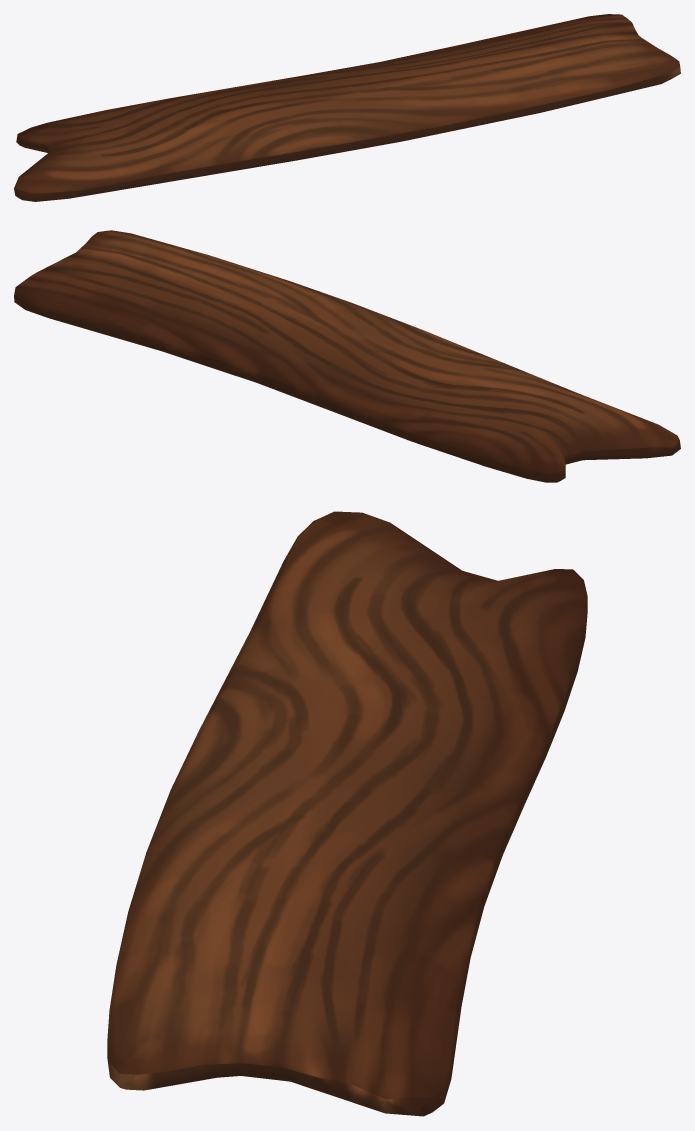
File: Town_BridgeSet_3.glb
3 renders of one model, top to bottom at view 1: azimuth 30°, elevation 25°; view 2: azimuth 150°, elevation 25°; view 3: azimuth 270°, elevation 25°, orthographic. The views are drawn at different scales.
Visible parts, largest first — view 1: Plane.002; view 2: Plane.002; view 3: Plane.002.
Boxes of the visible parts, x1,y1,x2,y2 form: Plane.002: (14, 14, 680, 201); Plane.002: (14, 230, 680, 482); Plane.002: (107, 511, 587, 1116).
Size of the model in its own units: 1.79 by 0.1147 by 0.5965.
1 material, 1 textured.
